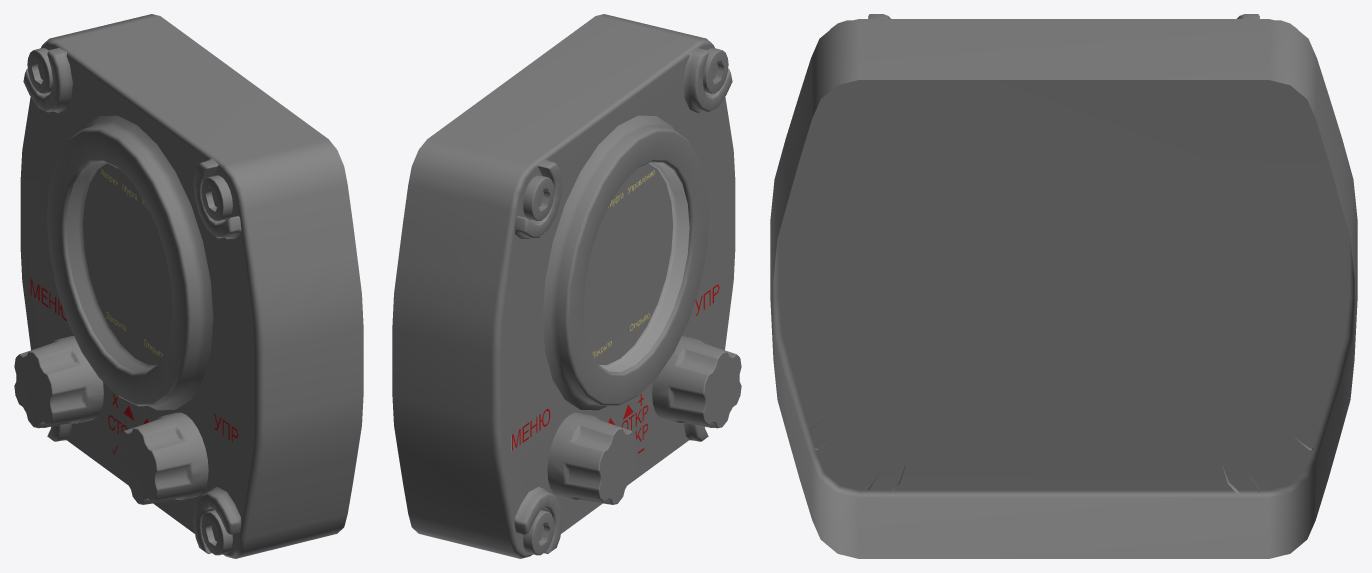
The model's file is TOGPA_Device_Display_main.fbx.
The picture shows the model from 3 angles, left to right: view 1: azimuth 30°, elevation 25°; view 2: azimuth 150°, elevation 25°; view 3: azimuth 270°, elevation 25°; orthographic projection. The views are drawn at different scales.
Parts seen in each view (by area): view 1: Device_Screen; view 2: Device_Screen; view 3: Device_Screen.
Part boxes in pixels (x1,y1,x2,y2): Device_Screen: (14,14,363,558); Device_Screen: (392,14,741,558); Device_Screen: (770,14,1357,558).
Bounding box in the file's own units: 6.23 × 14.67 × 16.29.
